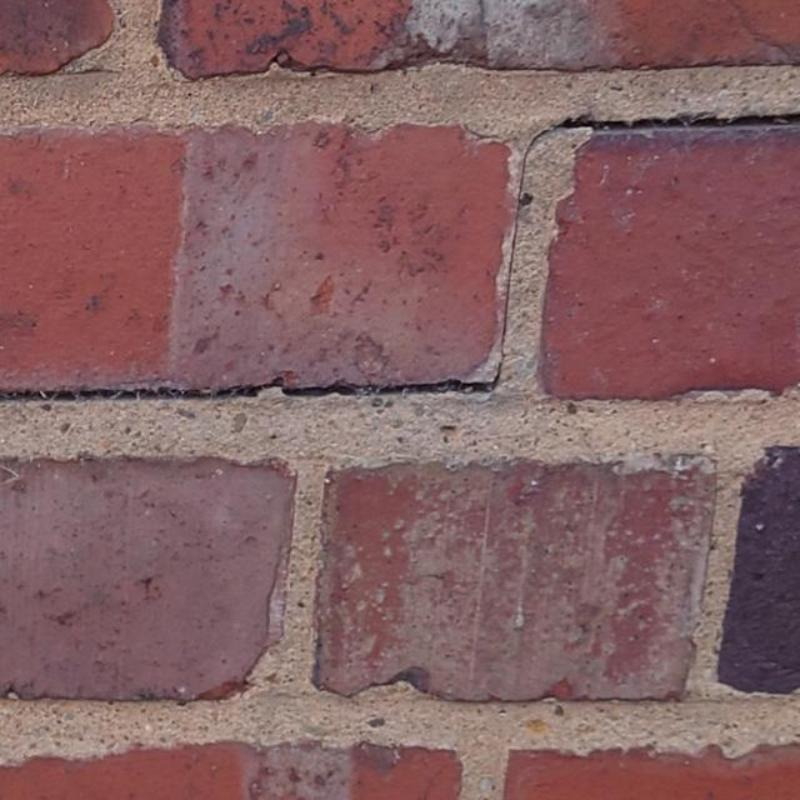pothole: (1, 363, 502, 402), (495, 127, 562, 378), (560, 115, 800, 130)
